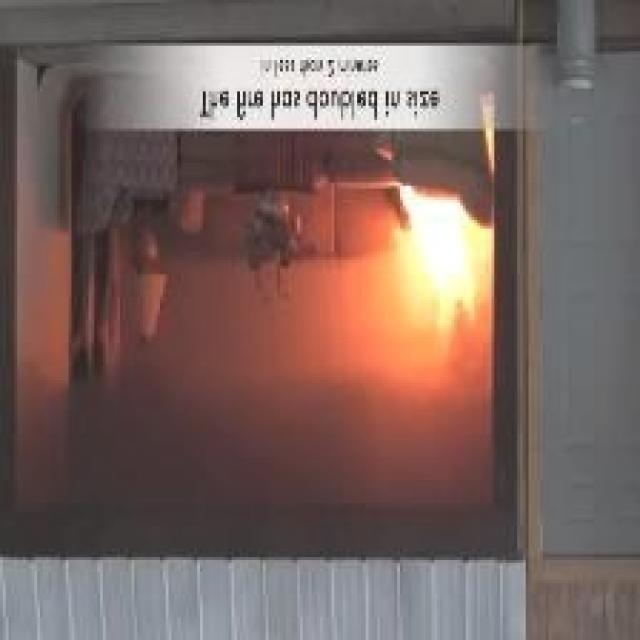fire: (387, 196, 490, 373)
